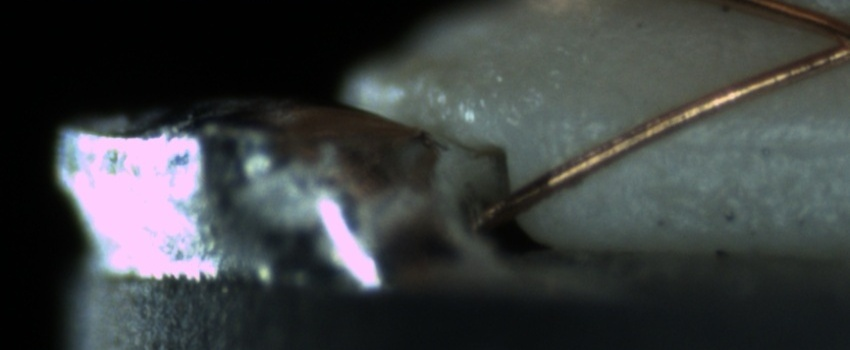CL: (801, 11, 849, 74)
DL: (613, 106, 846, 176)
